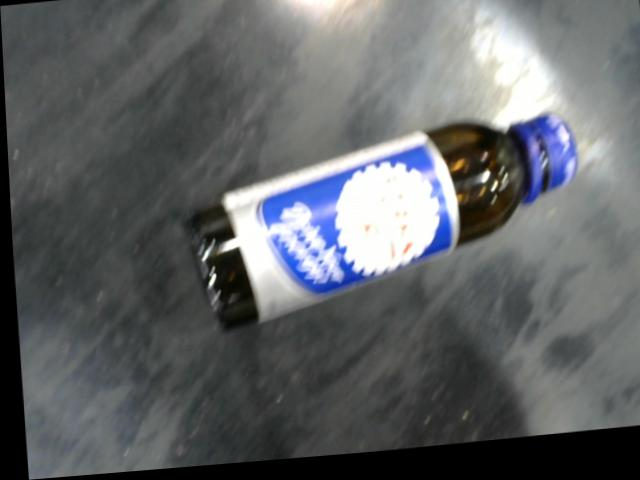glass: (180, 117, 578, 337)
